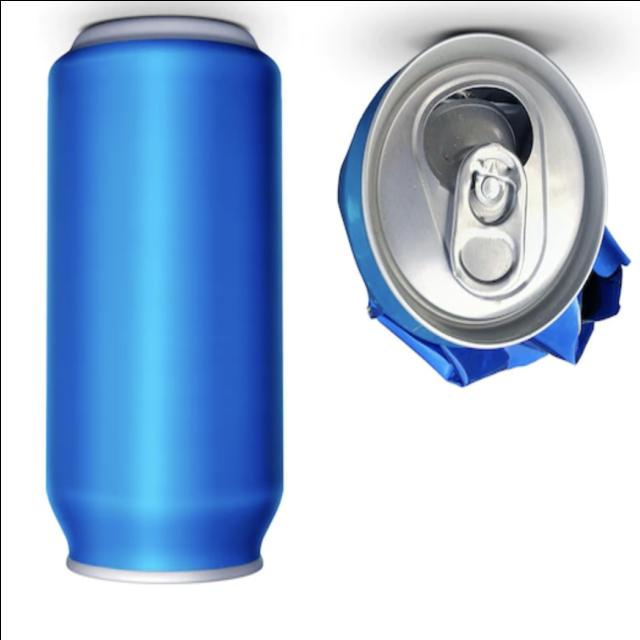can: (34, 6, 294, 594), (326, 25, 636, 401)
